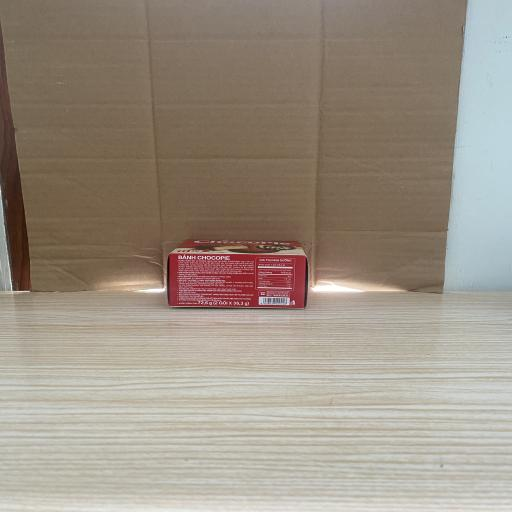chocopie: (167, 240, 309, 308)
